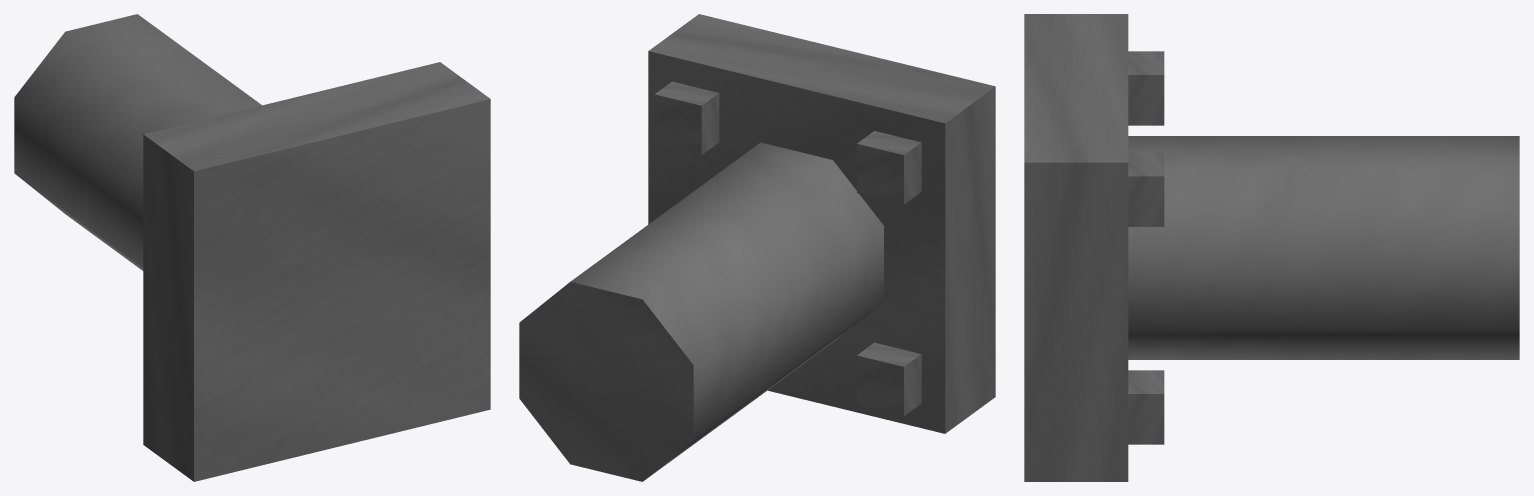
The model's file is pedestalpole_mount.obj.
3 views of the same model, side by side, from view 1: azimuth 30°, elevation 25°; view 2: azimuth 150°, elevation 25°; view 3: azimuth 270°, elevation 25° (orthographic). The views are drawn at different scales.
Visible parts, largest first — view 1: pedestalpole_mount; view 2: pedestalpole_mount; view 3: pedestalpole_mount.
Boxes of the visible parts, bbox=[...] form: pedestalpole_mount: bbox=[14, 14, 490, 481]; pedestalpole_mount: bbox=[519, 14, 995, 481]; pedestalpole_mount: bbox=[1024, 14, 1519, 481].
Size of the model in its own units: 0.275 by 0.275 by 0.3869.
